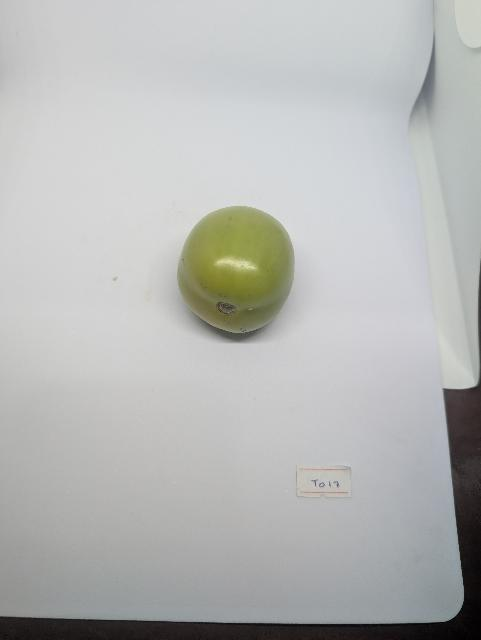green: (174, 203, 297, 338)
